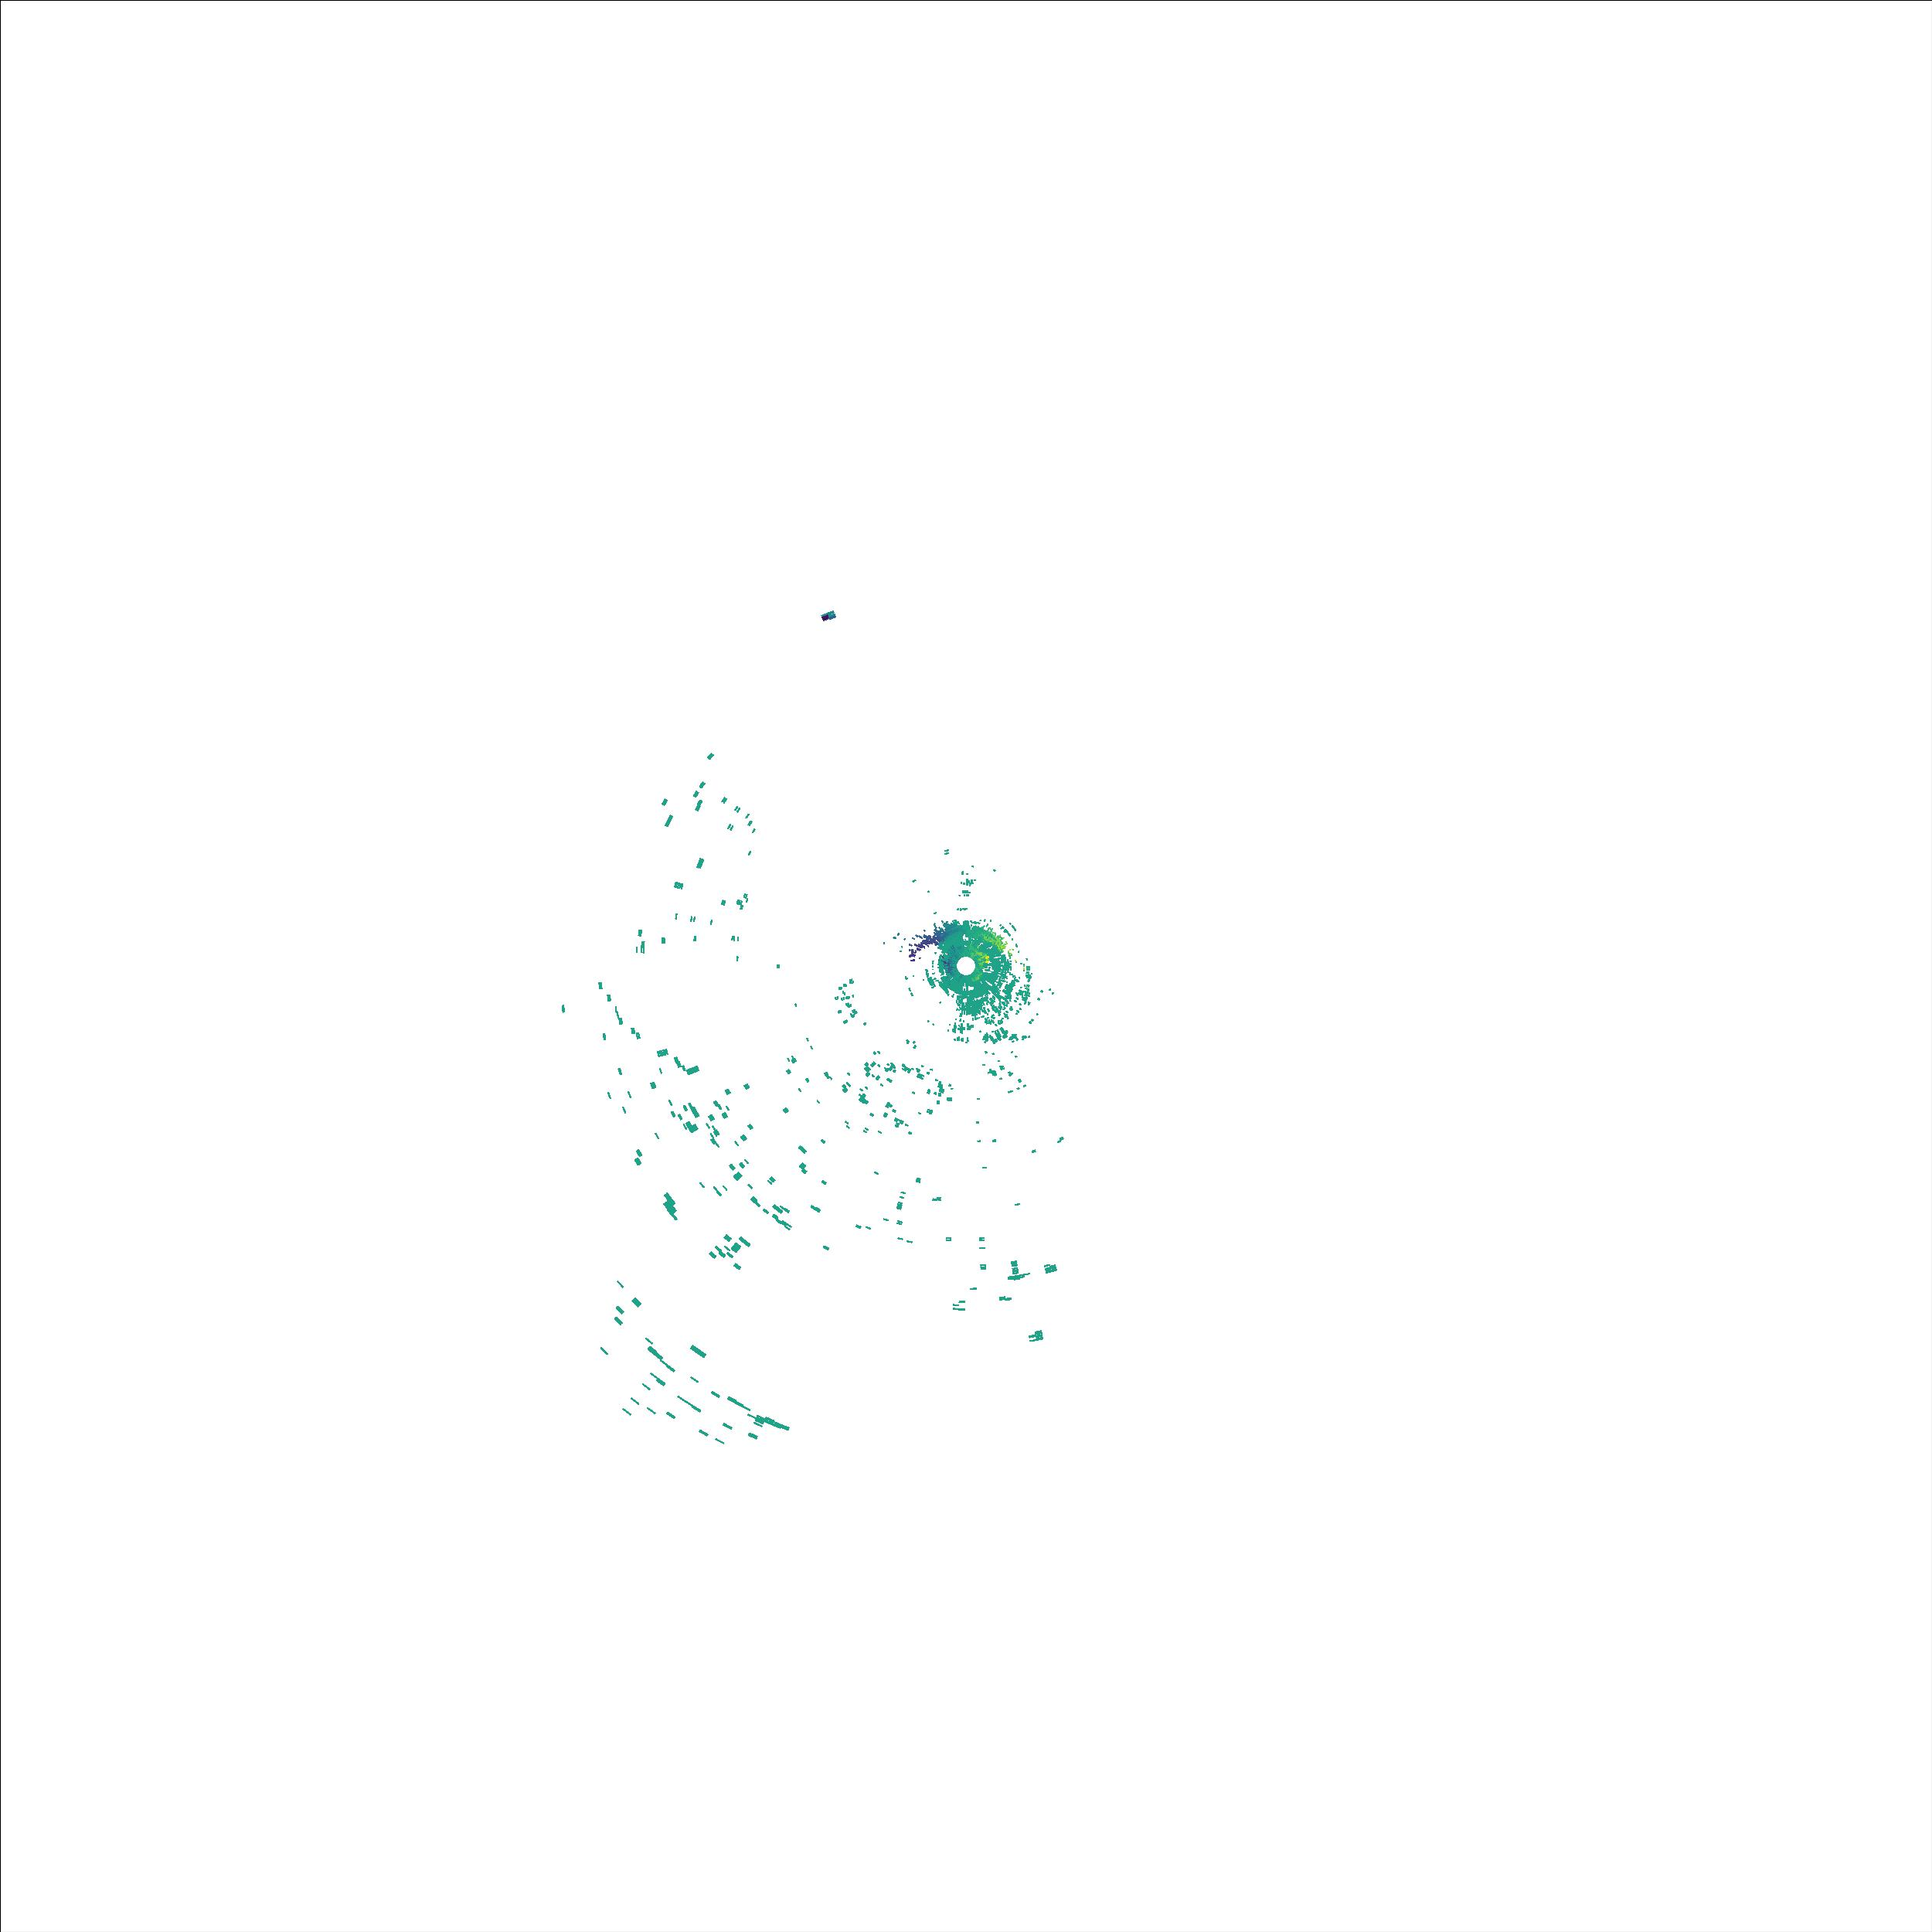fall: (816, 605, 844, 628)
